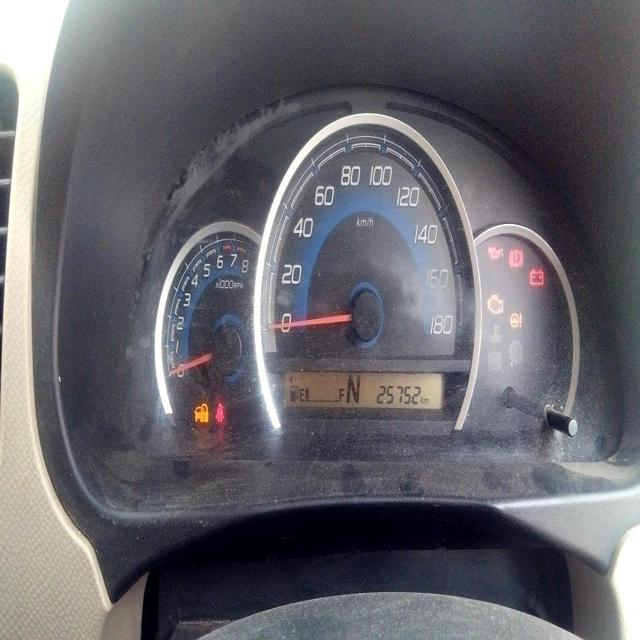odometer: (375, 382, 422, 408)
